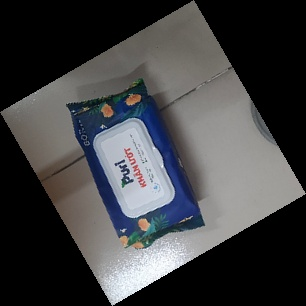Puri Xanh: (64, 77, 206, 256)
